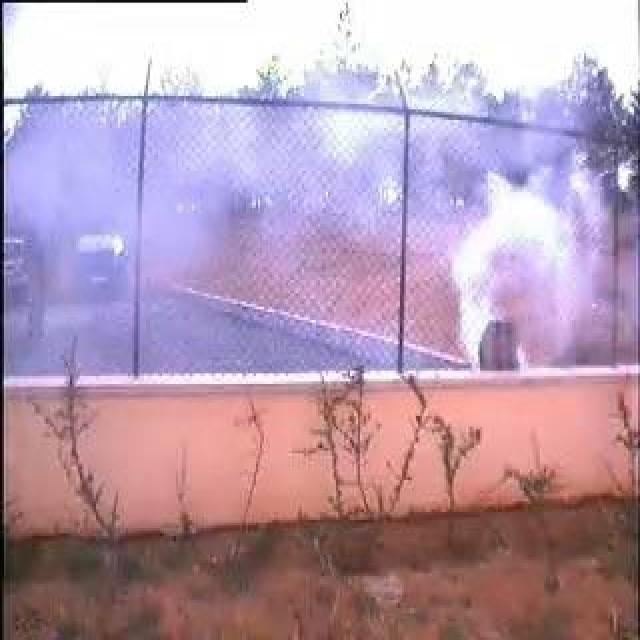Smoke: (9, 103, 585, 369)
